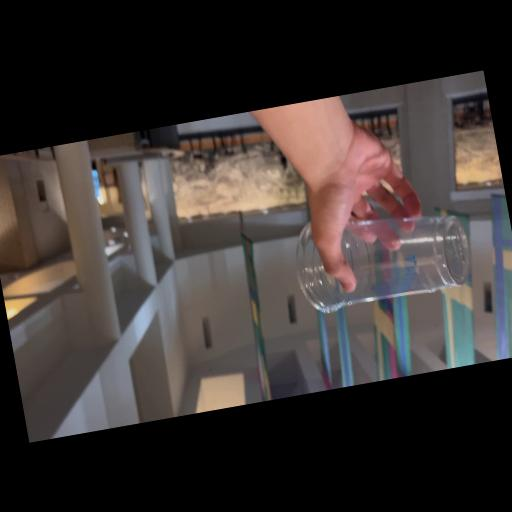lp_plastic_cup: (294, 200, 470, 312)
